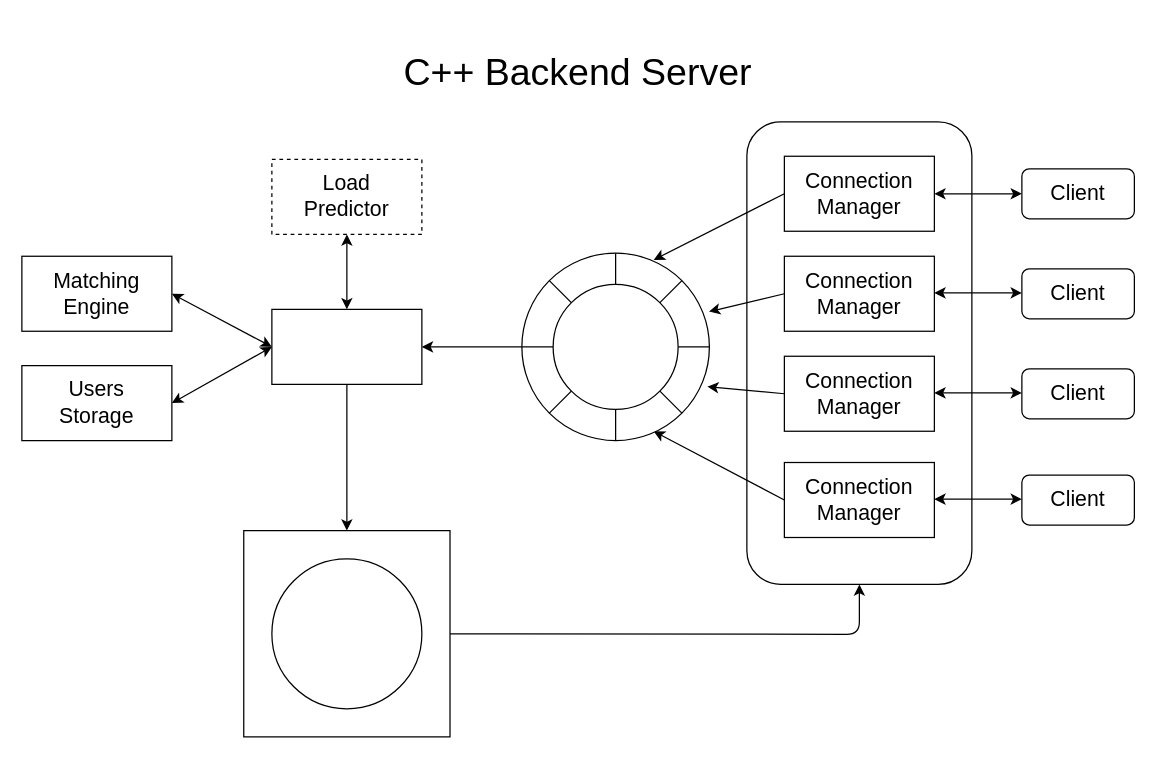
Some shapes in this 1156 by 759 pixel diagram are drawn without their labels. The shapes that lost their labels are listed below. From the top down, each one's centre as x and y in pixels, then its label:
the point at 346,346: Request Processor
the point at 615,346: Request Buffer
the point at 346,633: Responce Buffer Pool
